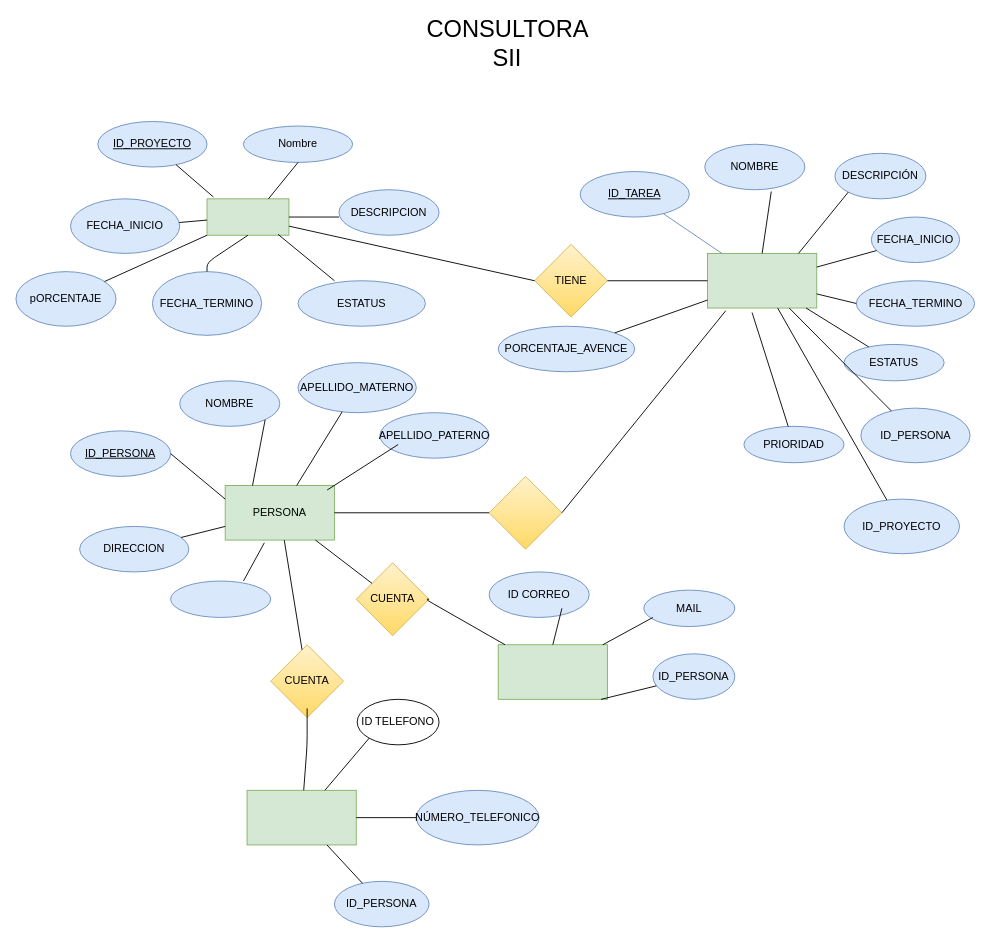
This 991x943 diagram has some shape labels left out. Here are the shapes that lost their labels. From the top down, the centre of each, then its label:
At point (247, 216): "Proyecto".
At point (762, 280): "TAREA".
At point (525, 512): "ASIGNADA".
At point (220, 598): "RFC".
At point (552, 671): "Correo".
At point (301, 817): "TELEFONO".
